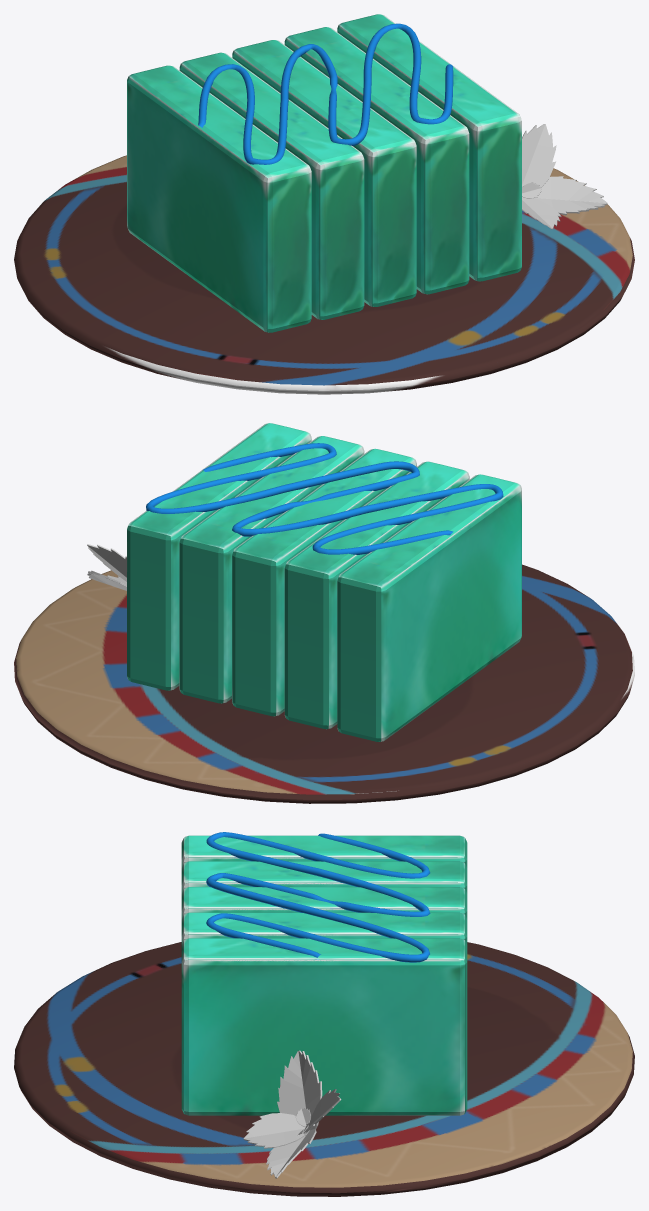
The model's file is jopa.fbx.
The picture shows the model from 3 angles, top to bottom: view 1: azimuth 30°, elevation 25°; view 2: azimuth 150°, elevation 25°; view 3: azimuth 270°, elevation 25°; orthographic projection.
Visible parts, largest first — view 1: Листочек.005; view 2: Листочек.005; view 3: Листочек.005.
Boxes of the visible parts, x1,y1,x2,y2 form: Листочек.005: (14,14,634,394); Листочек.005: (14,423,634,803); Листочек.005: (14,832,634,1196).
Bounding box in the file's own units: 173 × 54.95 × 173.
